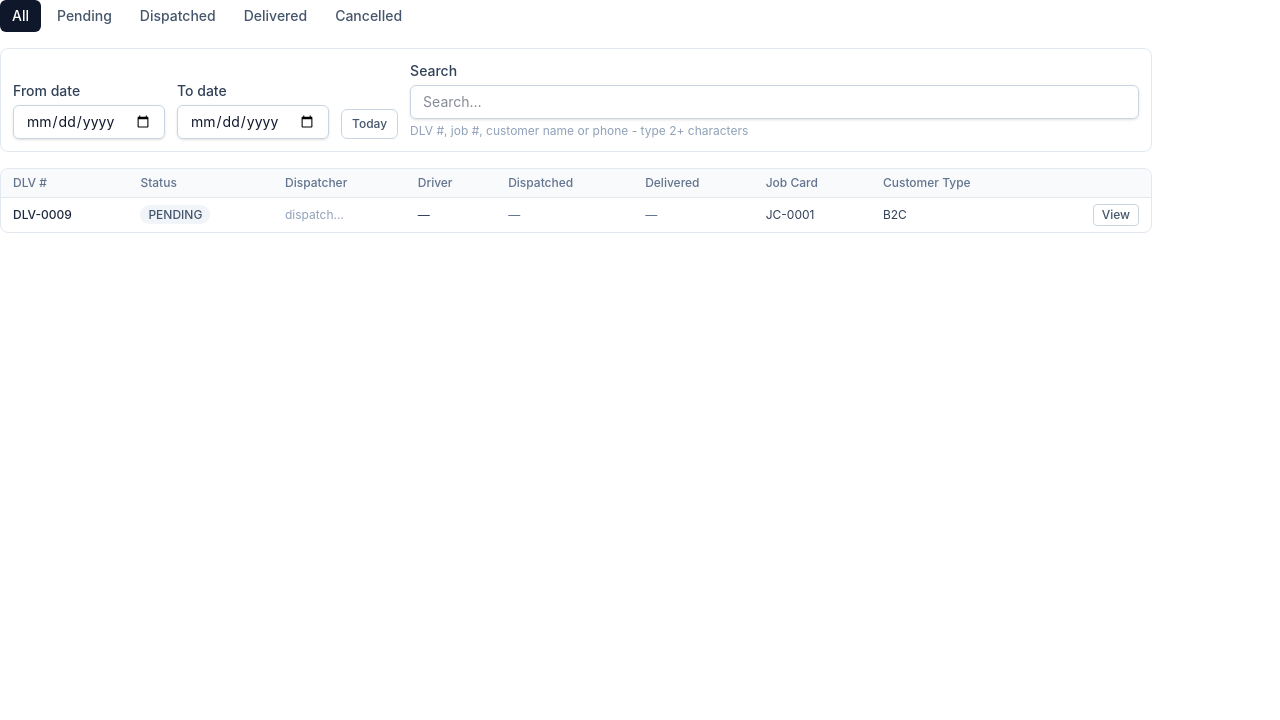
Test: DeliveriesPage - list and status filter › the detail popup has its own close control and closing it clears ?deliveryId=
Expected: the text "DLV-0009" is shown, 13,207 -> 72,222
Step 1. Click the button "View" → (1116, 215), box 1093,204 -> 1139,226
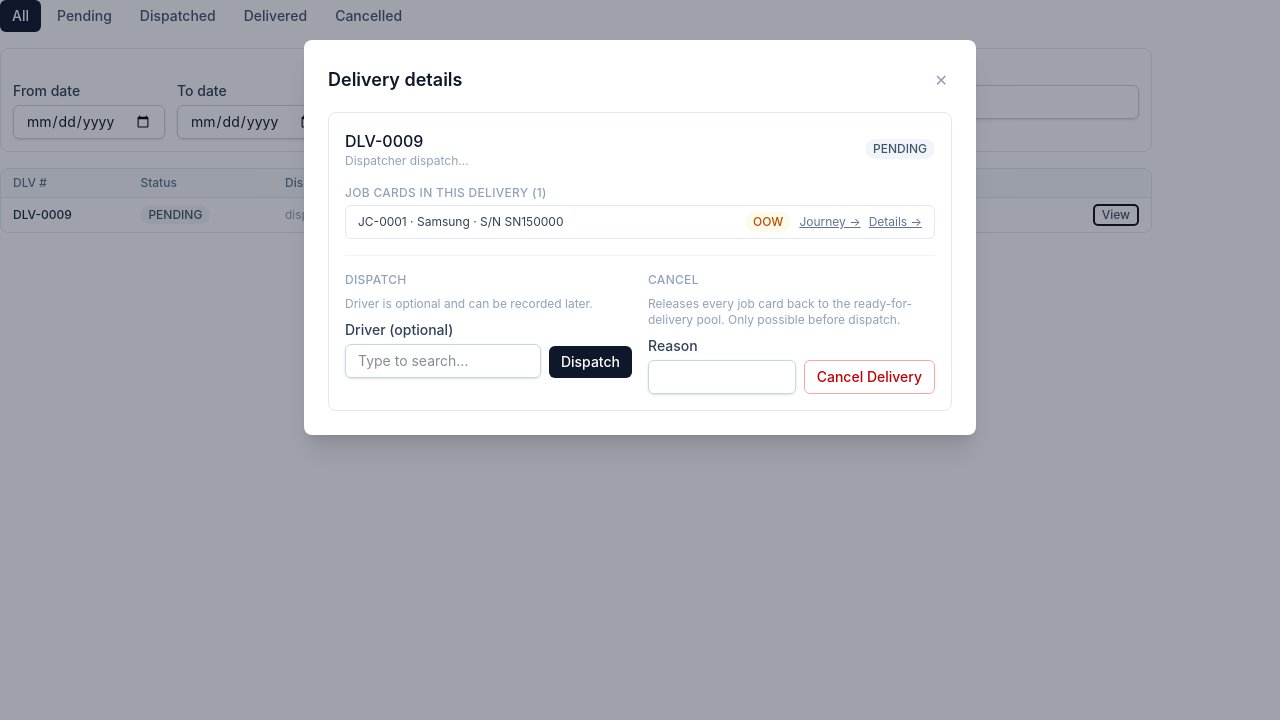
Expected: the text "Job cards in this delivery (1)" is shown, 345,185 -> 547,200
Step 2. Click the button named "Close" → (941, 80), box 931,64 -> 952,96
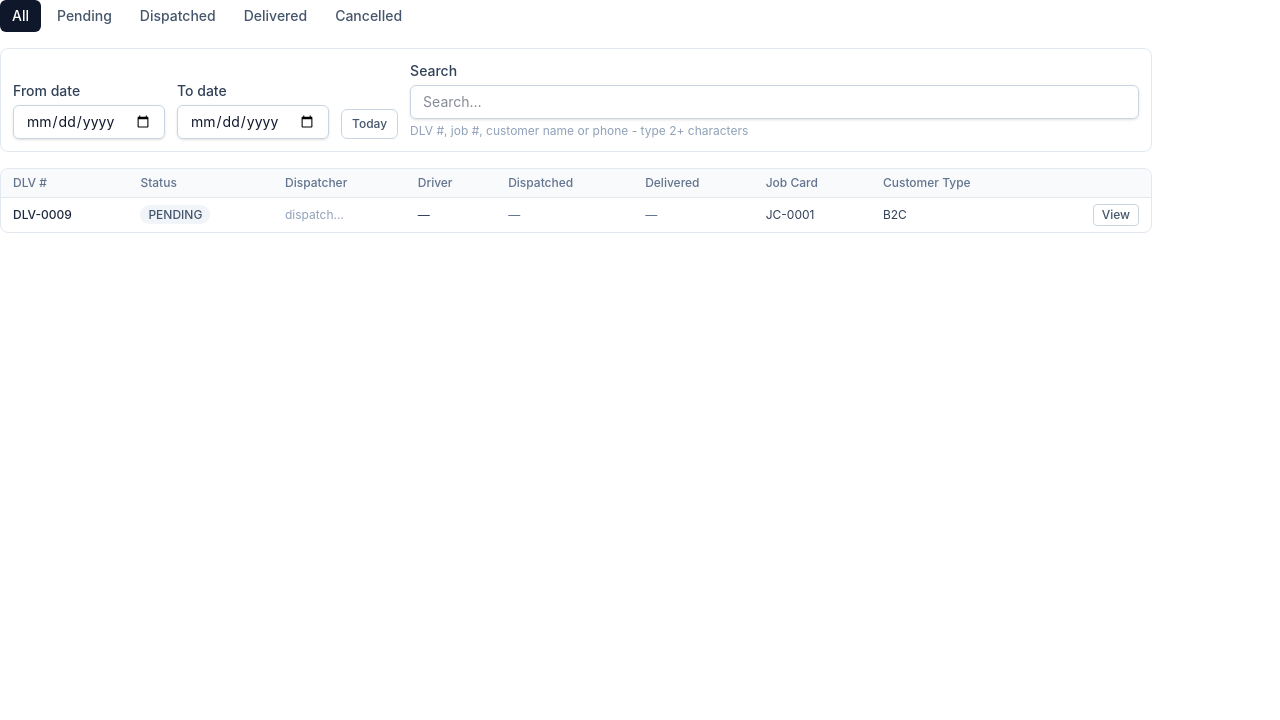
Expected: the text "Job cards in this delivery" is gone
